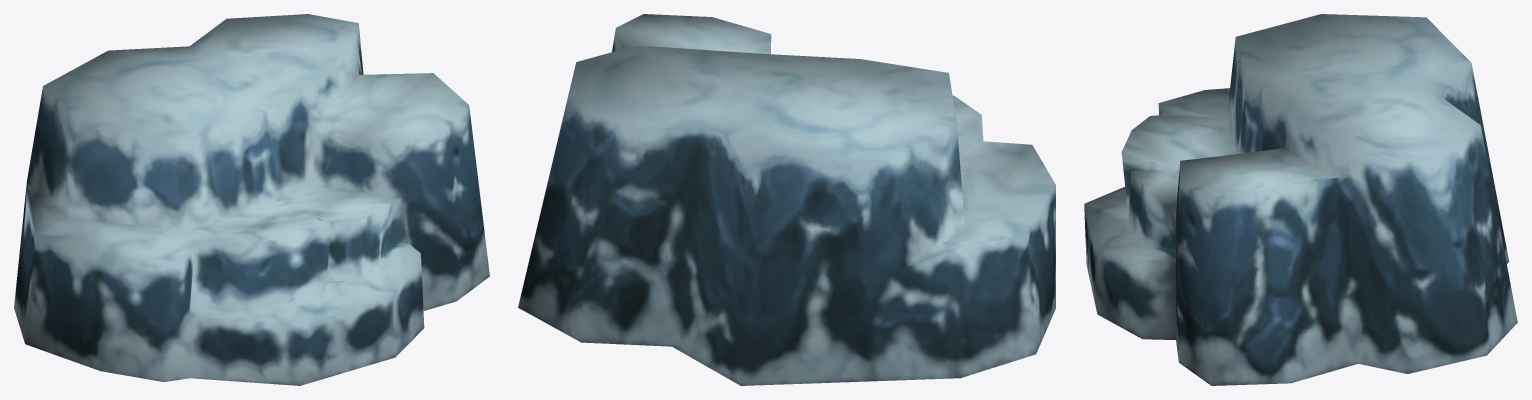
The model's file is Stage_BingYuan_ShanShi04.FBX.
3 views of the same model, side by side, from view 1: azimuth 30°, elevation 25°; view 2: azimuth 150°, elevation 25°; view 3: azimuth 270°, elevation 25° (orthographic). The views are drawn at different scales.
Parts seen in each view (by area): view 1: Stage_BingYuan_ShanShi04; view 2: Stage_BingYuan_ShanShi04; view 3: Stage_BingYuan_ShanShi04.
Boxes of the visible parts, x1=… form: Stage_BingYuan_ShanShi04: x1=14, y1=14, x2=489, y2=385; Stage_BingYuan_ShanShi04: x1=518, y1=14, x2=1055, y2=385; Stage_BingYuan_ShanShi04: x1=1084, y1=14, x2=1517, y2=385.
Bounding box in the file's own units: 833 × 396 × 739.
